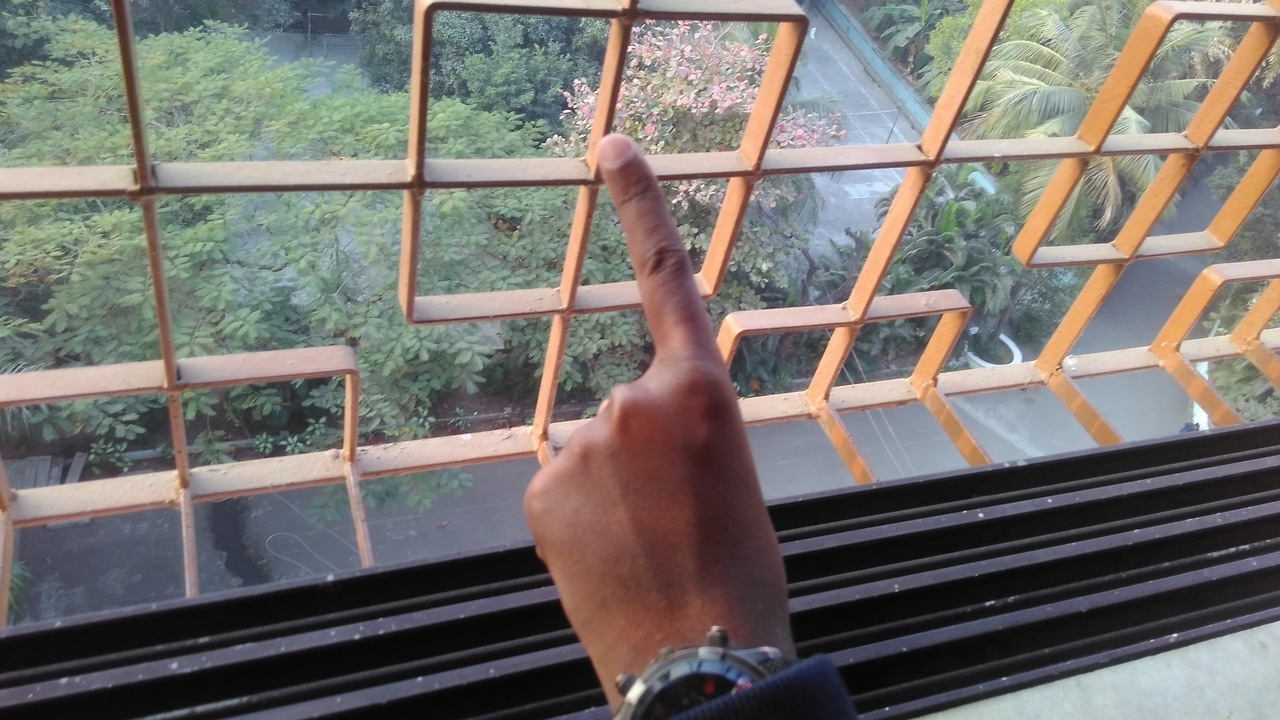fingertip: (588, 126, 650, 188)
